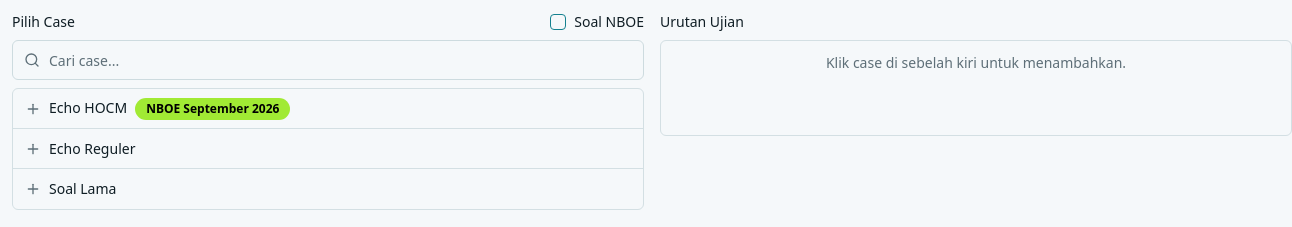
Test case: NBOE deployment picker filter › shows all cases initially and only marked cases while checked, restoring all when unchecked
The image size is (1292, 227).
Expected: the number of buttons is 3, [13, 89, 643, 129]; [13, 129, 643, 169]; [13, 169, 643, 209]
What coordinates should you click on to do the following:
click the checkbox named "Soal NBOE"
I would click on:
 (558, 22)
Its box is [550, 14, 566, 30].
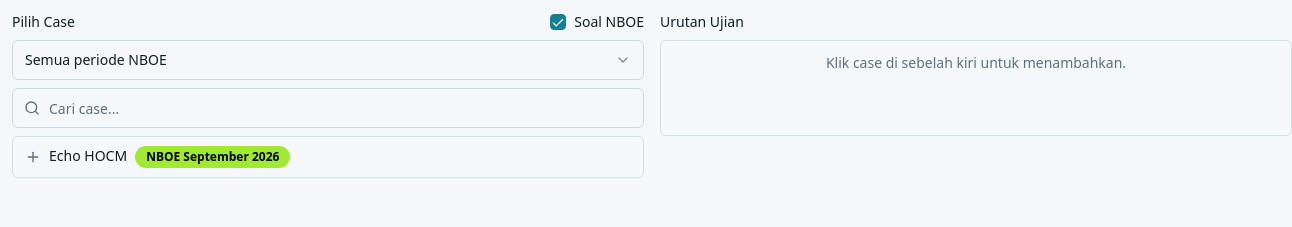
Expected: the button "Echo HOCM NBOE September 2026" is shown, [13, 137, 643, 177]
Expected: the button "Echo Reguler" is gone
What coordinates should you click on to do the following:
click the checkbox named "Soal NBOE"
I would click on:
 (558, 22)
Its box is [550, 14, 566, 30].
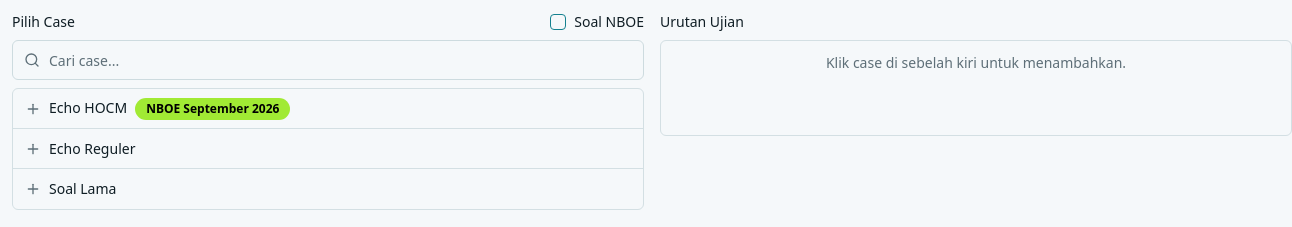
Expected: the number of buttons is 3, [13, 89, 643, 129]; [13, 129, 643, 169]; [13, 169, 643, 209]
